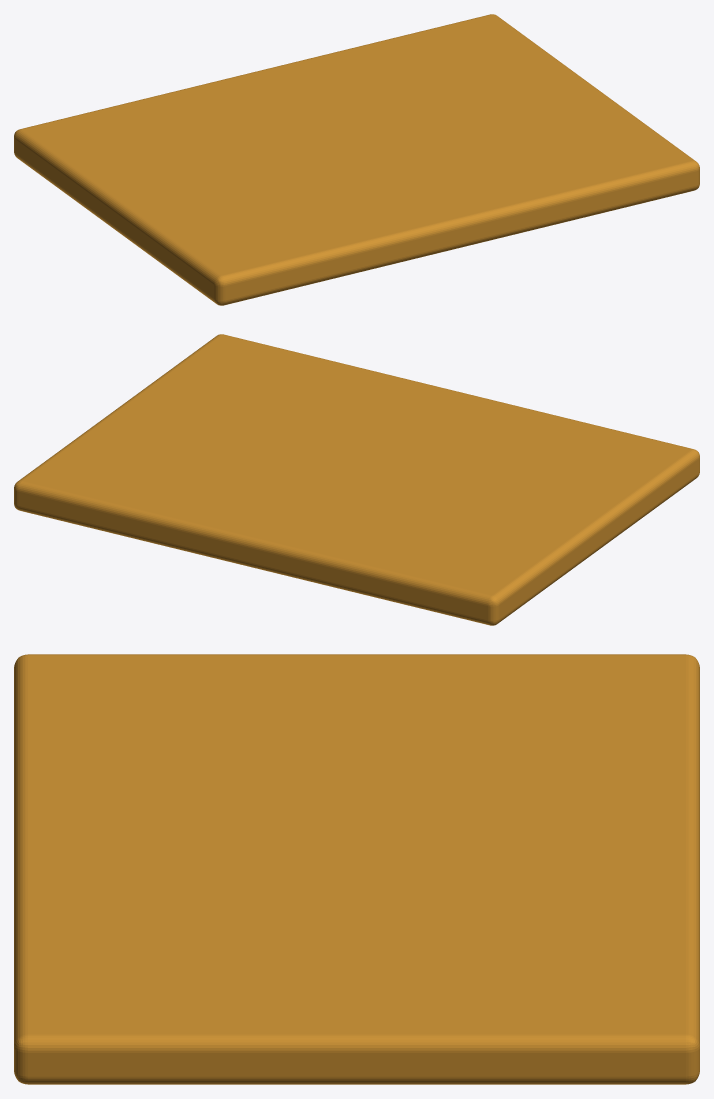
File: Platform4.fbx
3 renders of one model, top to bottom at view 1: azimuth 30°, elevation 25°; view 2: azimuth 150°, elevation 25°; view 3: azimuth 270°, elevation 25°, orthographic. The views are drawn at different scales.
Visible parts, largest first — view 1: Cube_7; view 2: Cube_7; view 3: Cube_7.
Boxes of the visible parts, <box> form: Cube_7: <box>14,14,699,305</box>; Cube_7: <box>14,334,699,625</box>; Cube_7: <box>14,654,699,1084</box>.
Bounding box in the file's own units: 2000 × 116 × 1485.
